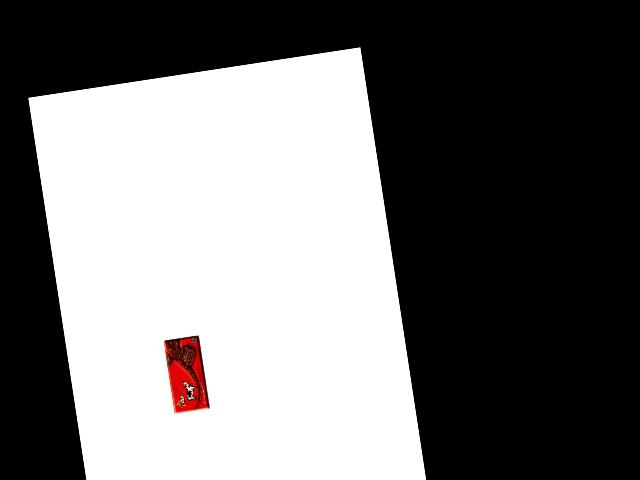chocolate: (155, 333, 202, 408)
